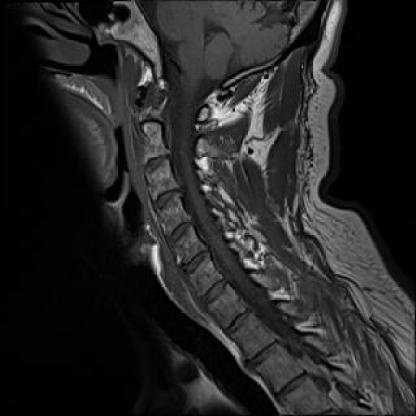Disc Bulgerotation: (162, 223, 199, 244), (179, 251, 215, 271)
Disc Protrusionrotation: (151, 189, 185, 208)
